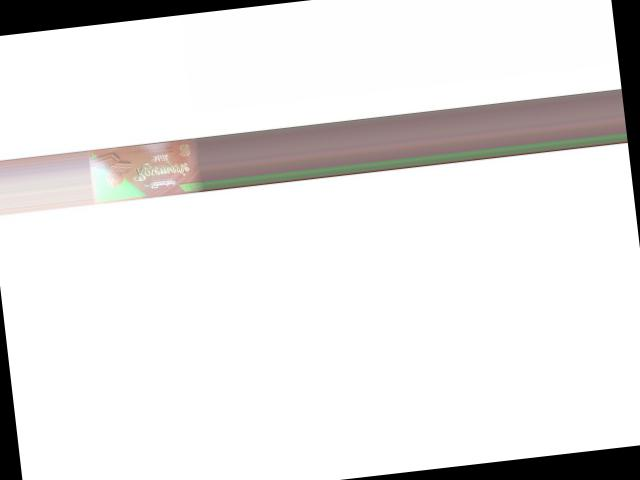chocolate: (89, 138, 204, 202)
